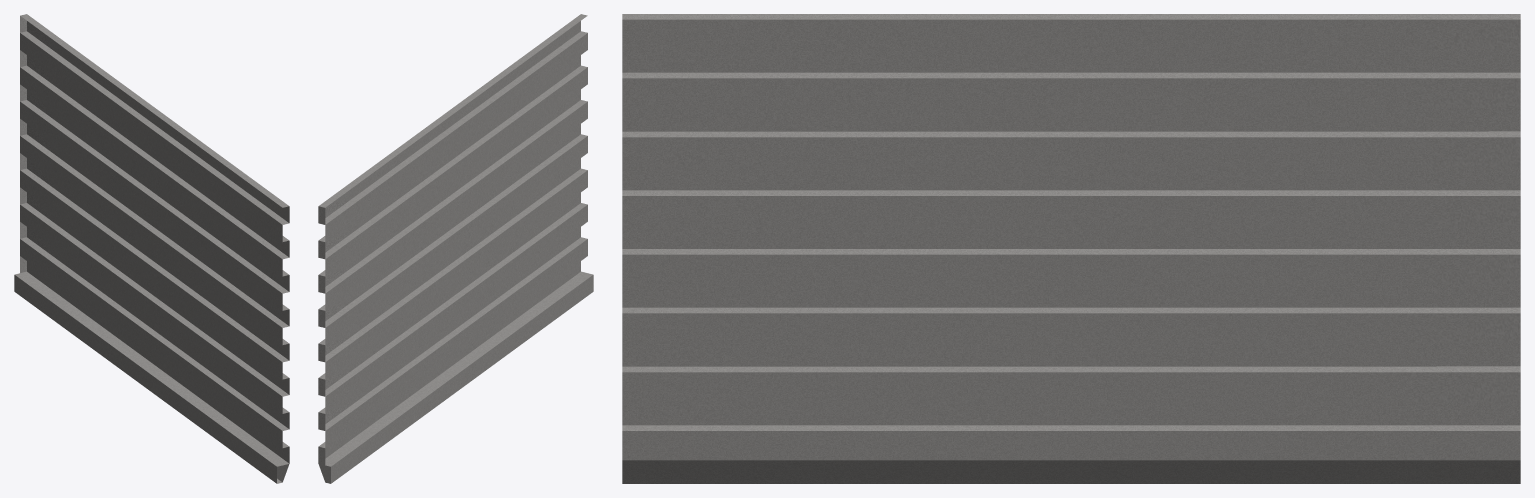
The model's file is garage door (small).obj.
3 views of the same model, side by side, from view 1: azimuth 30°, elevation 25°; view 2: azimuth 150°, elevation 25°; view 3: azimuth 270°, elevation 25° (orthographic). The views are drawn at different scales.
Parts seen in each view (by area): view 1: garage_door_(small)_Cube.005; view 2: garage_door_(small)_Cube.005; view 3: garage_door_(small)_Cube.005.
Boxes of the visible parts, x1,y1,x2,y2 form: garage_door_(small)_Cube.005: (14,14,289,483); garage_door_(small)_Cube.005: (318,14,593,483); garage_door_(small)_Cube.005: (622,14,1520,483).
Bounding box in the file's own units: 0.0949 × 2 × 3.47.
